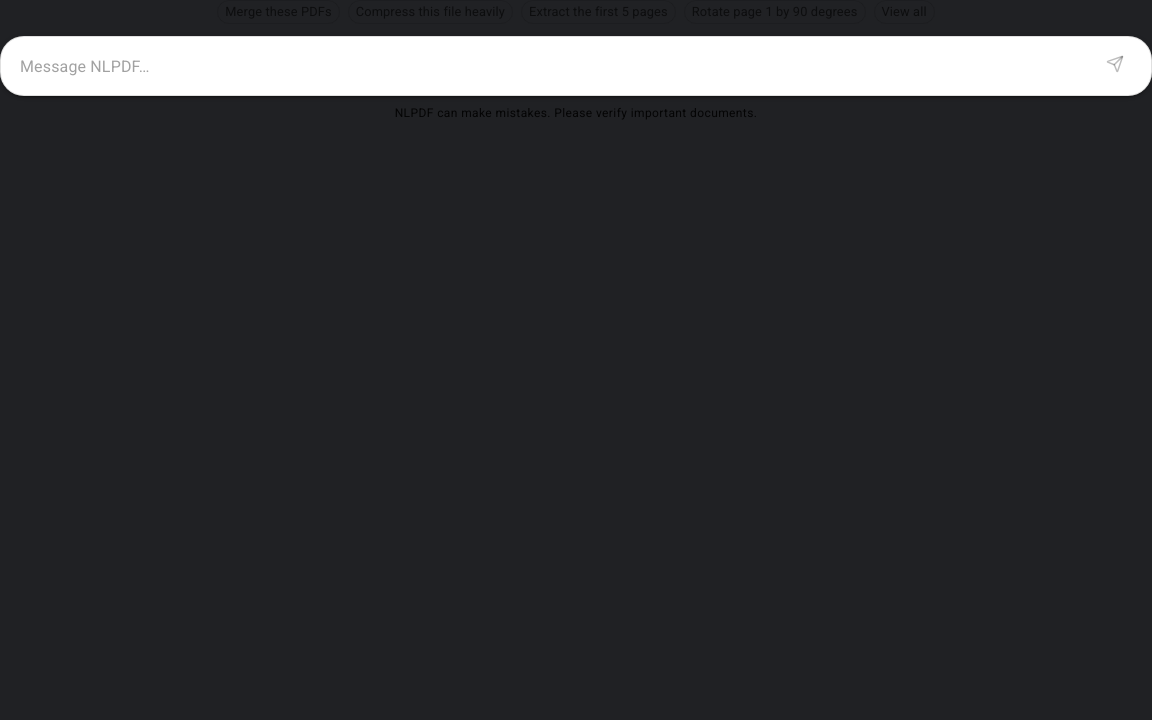
CommandInput › asks for a file when none is uploaded
This screenshot has width=1152, height=720.
Type "compress" into the text box with placeholder "Message NLPDF…" at (555, 66), box [20,54,1090,78]
Then press Enter
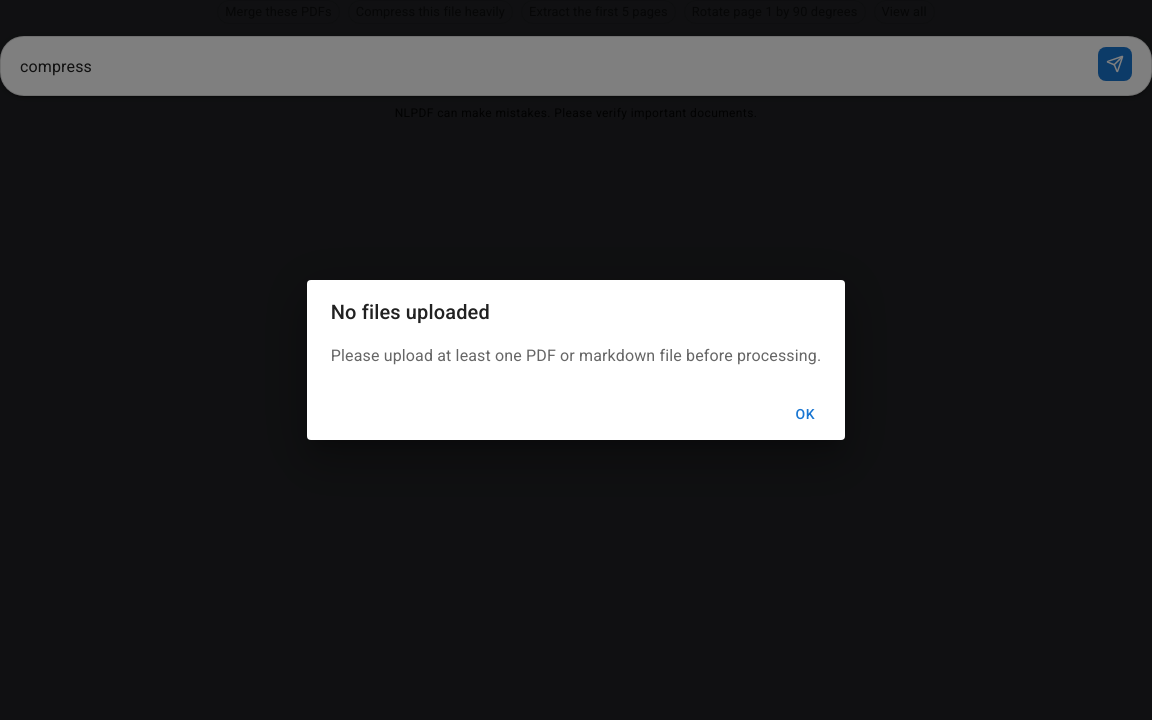
Expected: the dialog "No files uploaded" is shown, [307,280,845,440]
